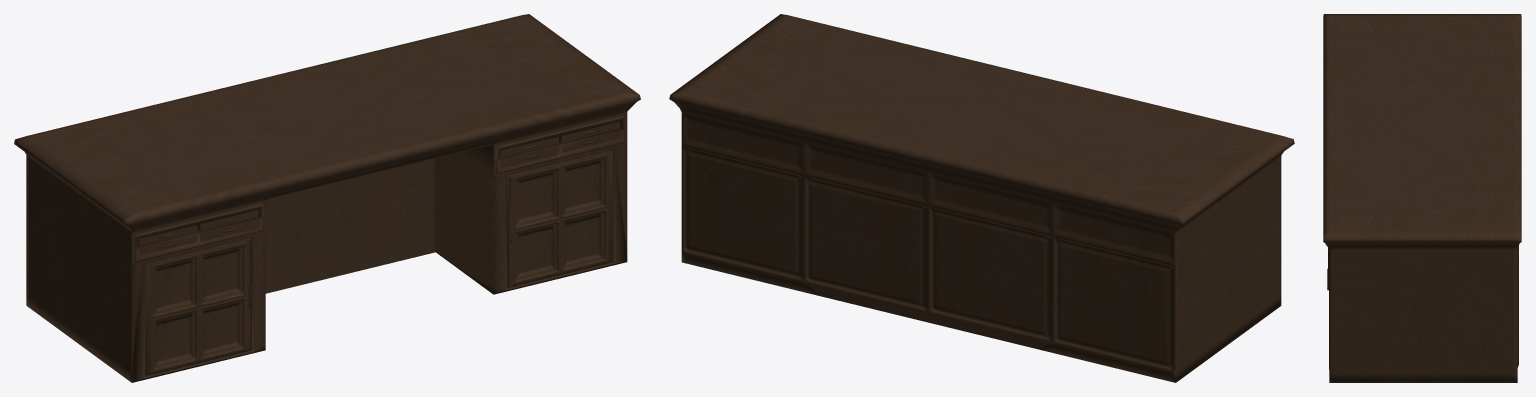
The model's file is boss_table.glb.
3 renders of one model, left to right at view 1: azimuth 30°, elevation 25°; view 2: azimuth 150°, elevation 25°; view 3: azimuth 270°, elevation 25°, orthographic. The views are drawn at different scales.
Parts seen in each view (by area): view 1: BossTable; view 2: BossTable; view 3: BossTable.
Part boxes in pixels (x1,y1,x2,y2): BossTable: [14, 14, 640, 382]; BossTable: [669, 14, 1294, 382]; BossTable: [1323, 14, 1521, 382].
Size of the model in its own units: 2.94 by 0.923 by 1.1.
2 materials, 2 textured.
